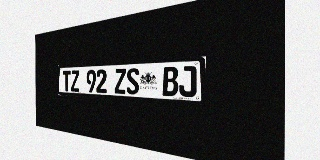2: (96, 69, 106, 93)
9: (86, 69, 96, 93)
B: (162, 66, 178, 96)
J: (179, 66, 196, 97)
S: (126, 68, 139, 95)
T: (63, 70, 71, 91)
Z: (114, 68, 126, 94), (71, 70, 79, 92)
